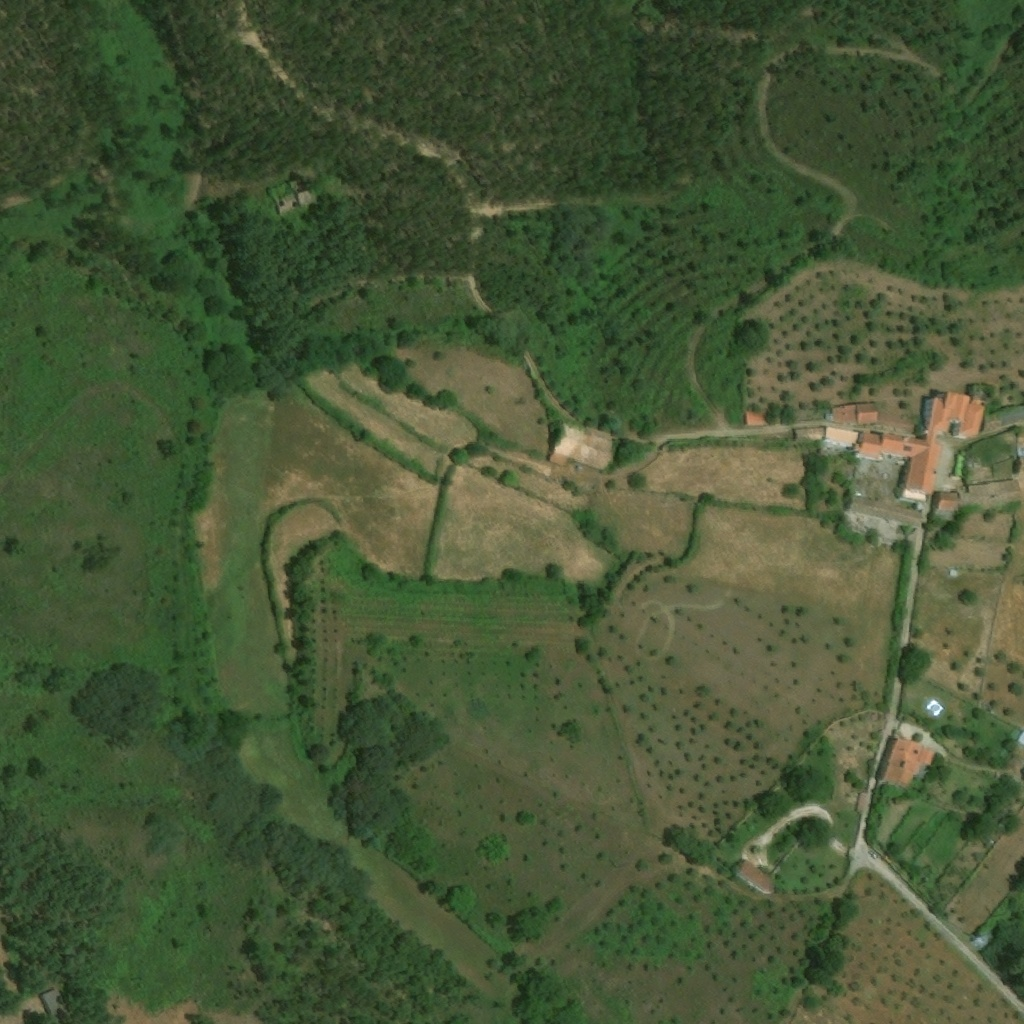0 no-damage: (788, 392, 989, 505), (872, 736, 938, 797), (550, 429, 626, 473), (733, 862, 776, 896), (830, 402, 879, 426), (966, 927, 996, 951), (933, 492, 960, 516), (39, 990, 65, 1013), (746, 410, 771, 427), (278, 199, 298, 215), (298, 191, 318, 206)
4 un-classified: (1013, 433, 1023, 475)
